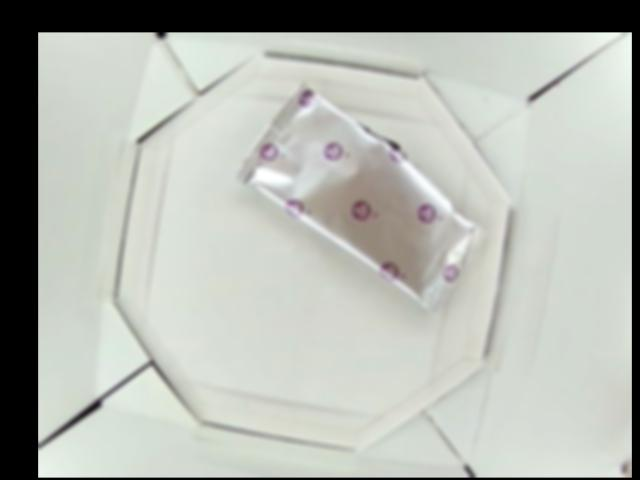Medicine: (234, 77, 489, 315)
